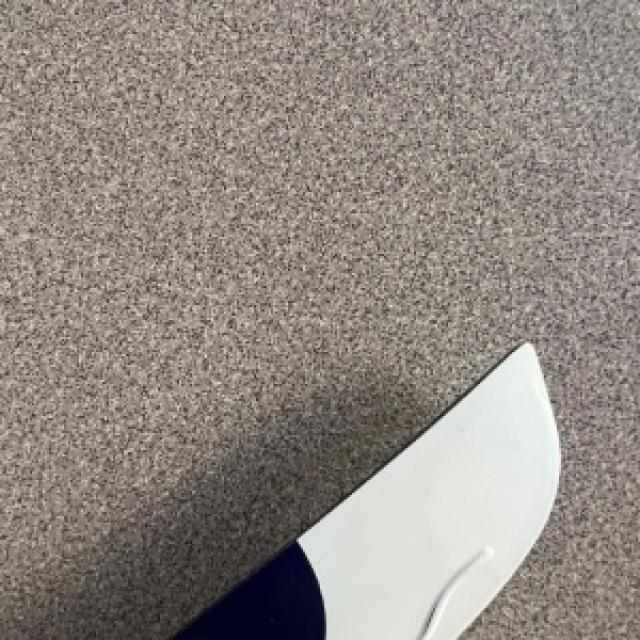healthy: (173, 343, 557, 638)
